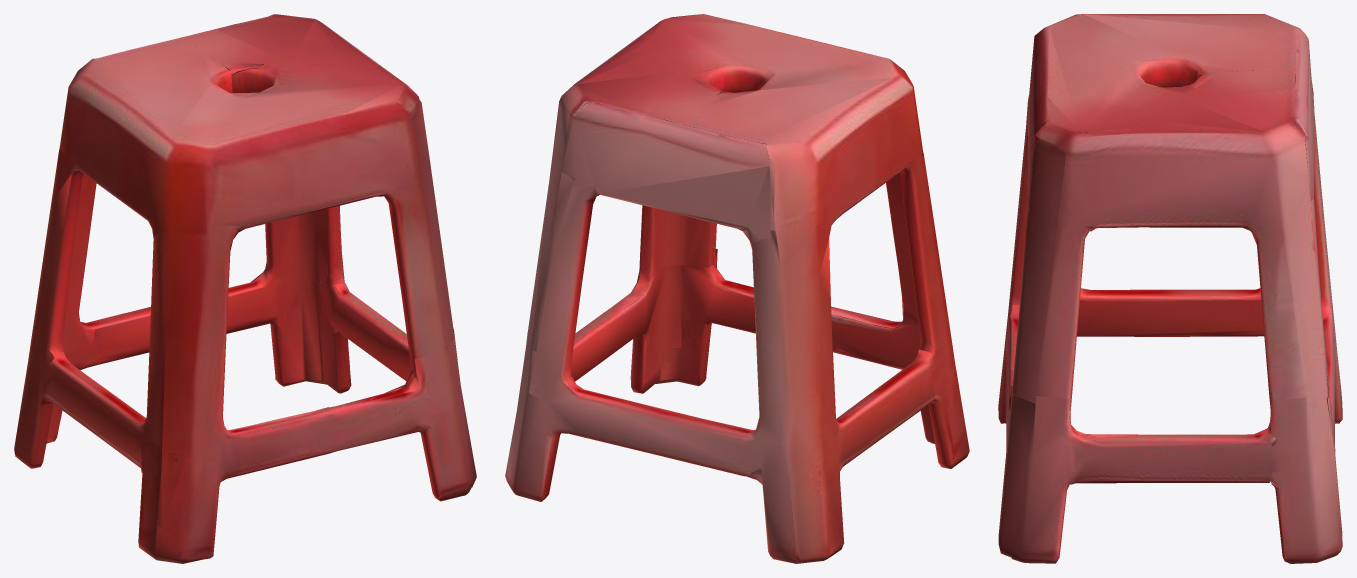
File: prop_kursi.glb
3 renders of one model, left to right at view 1: azimuth 30°, elevation 25°; view 2: azimuth 150°, elevation 25°; view 3: azimuth 270°, elevation 25°, orthographic. The views are drawn at different scales.
Parts seen in each view (by area): view 1: prop_kursi; view 2: prop_kursi; view 3: prop_kursi.
Boxes of the visible parts, x1,y1,x2,y2 form: prop_kursi: (14,14,476,563); prop_kursi: (505,14,969,563); prop_kursi: (998,14,1342,563).
Bounding box in the file's own units: 0.4133 × 0.4804 × 0.3649.
1 material, 1 textured.
